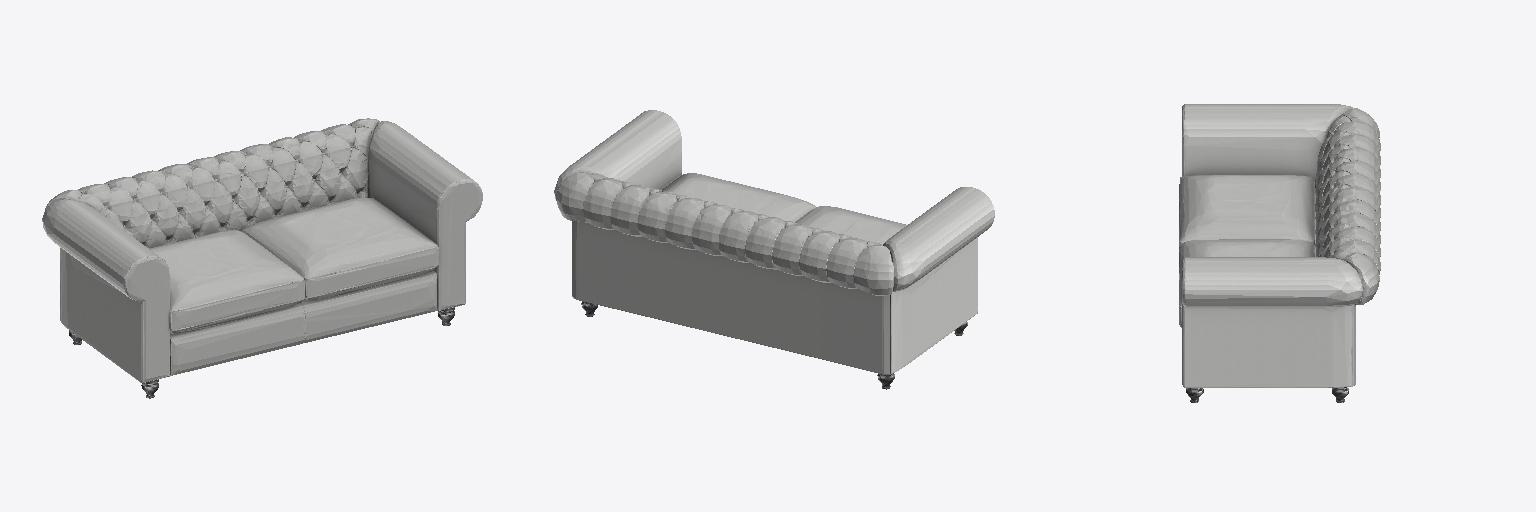
3 renders of one model, left to right at view 1: azimuth 30°, elevation 25°; view 2: azimuth 150°, elevation 25°; view 3: azimuth 270°, elevation 25°, orthographic.
Visible parts, largest first — view 1: solid_001, solid_002; view 2: solid_001; view 3: solid_001.
Boxes of the visible parts, x1=… form: solid_001: x1=42, y1=118, x2=482, y2=382; solid_002: x1=69, y1=307, x2=454, y2=398; solid_001: x1=554, y1=110, x2=994, y2=374; solid_001: x1=1179, y1=104, x2=1380, y2=387.
Size of the model in its own units: 1.92 by 0.7494 by 0.934.
Materials: 1 (1 with a texture image).